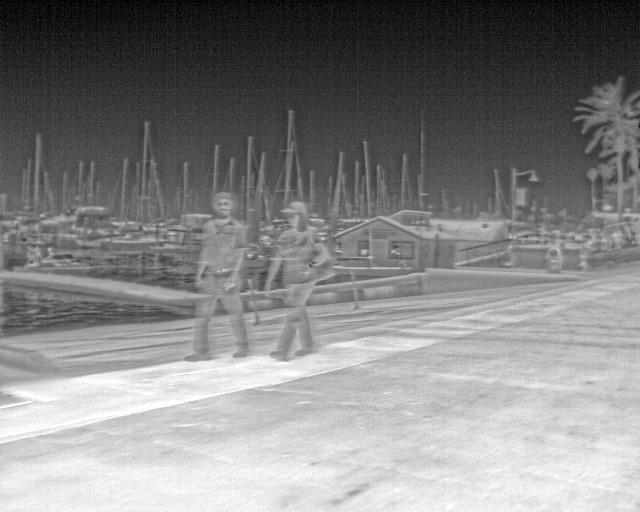empty: (185, 190, 259, 361), (260, 201, 330, 361)
